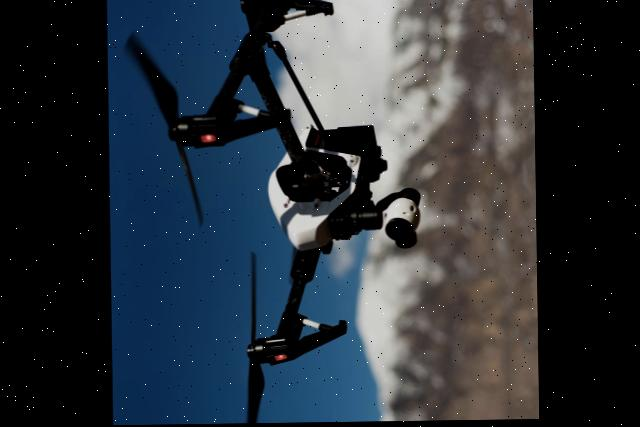drone: (107, 0, 425, 426)
